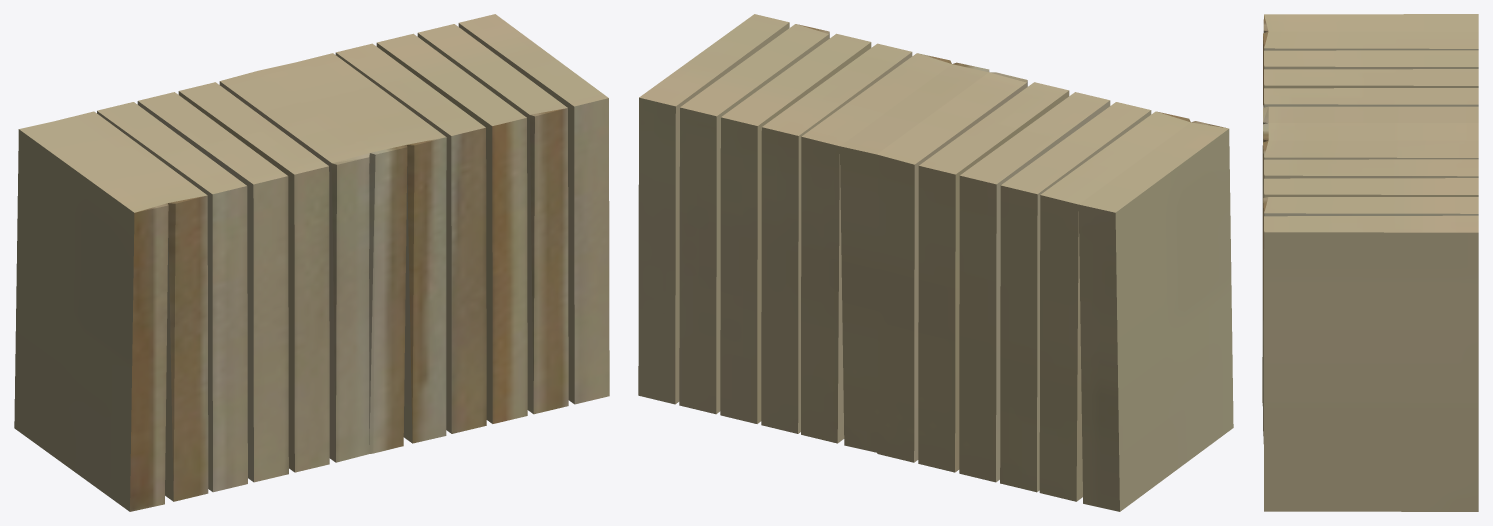
The model's file is book1_v4.dae.
3 views of the same model, side by side, from view 1: azimuth 30°, elevation 25°; view 2: azimuth 150°, elevation 25°; view 3: azimuth 270°, elevation 25° (orthographic). The views are drawn at different scales.
Visible parts, largest first — view 1: node; view 2: node; view 3: node.
Boxes of the visible parts, <box> form: node: <box>14,14,609,511</box>; node: <box>638,14,1233,511</box>; node: <box>1262,14,1478,511</box>.
Size of the model in its own units: 0.2903 by 0.1725 by 0.1206.
Materials: 1 (1 with a texture image).
